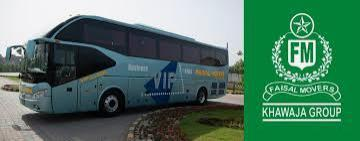bus: (8, 14, 228, 118)
